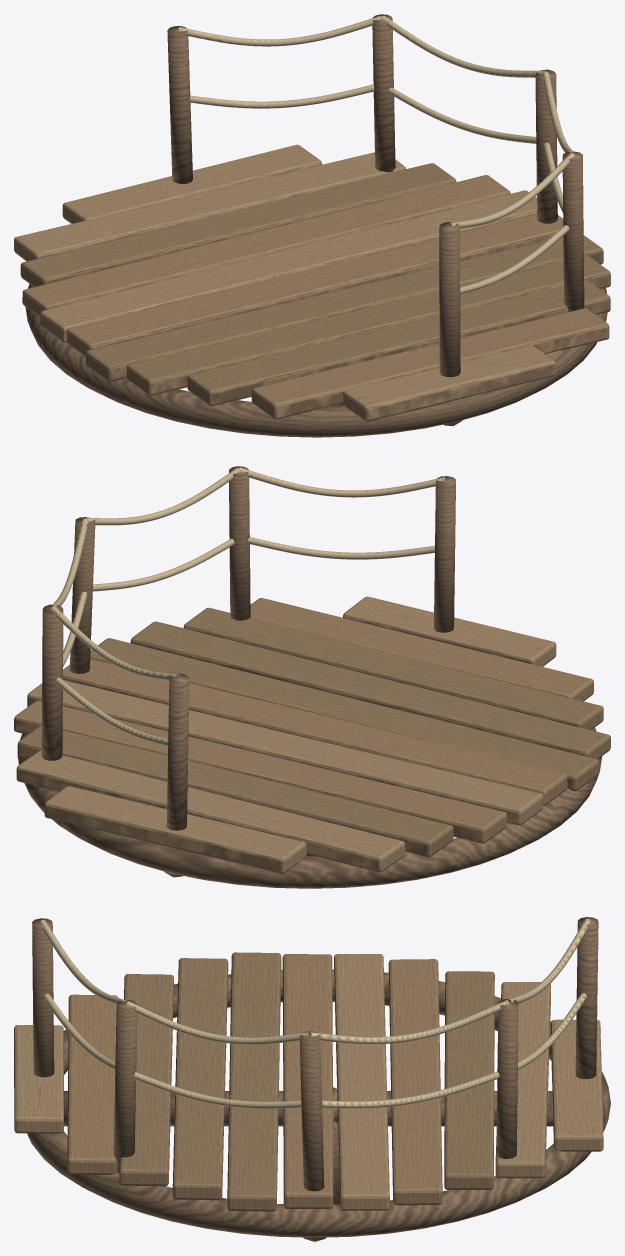
Rendered from platform_v2.glb.
The picture shows the model from 3 angles, top to bottom: view 1: azimuth 30°, elevation 25°; view 2: azimuth 150°, elevation 25°; view 3: azimuth 270°, elevation 25°; orthographic projection.
Parts seen in each view (by area): view 1: Plattform; view 2: Plattform; view 3: Plattform.
Boxes of the visible parts, x1=… form: Plattform: x1=14, y1=14, x2=610, y2=437; Plattform: x1=14, y1=466, x2=610, y2=888; Plattform: x1=14, y1=917, x2=610, y2=1241.
Bounding box in the file's own units: 1.97 × 1.11 × 1.99.
Materials: 1 (1 with a texture image).
